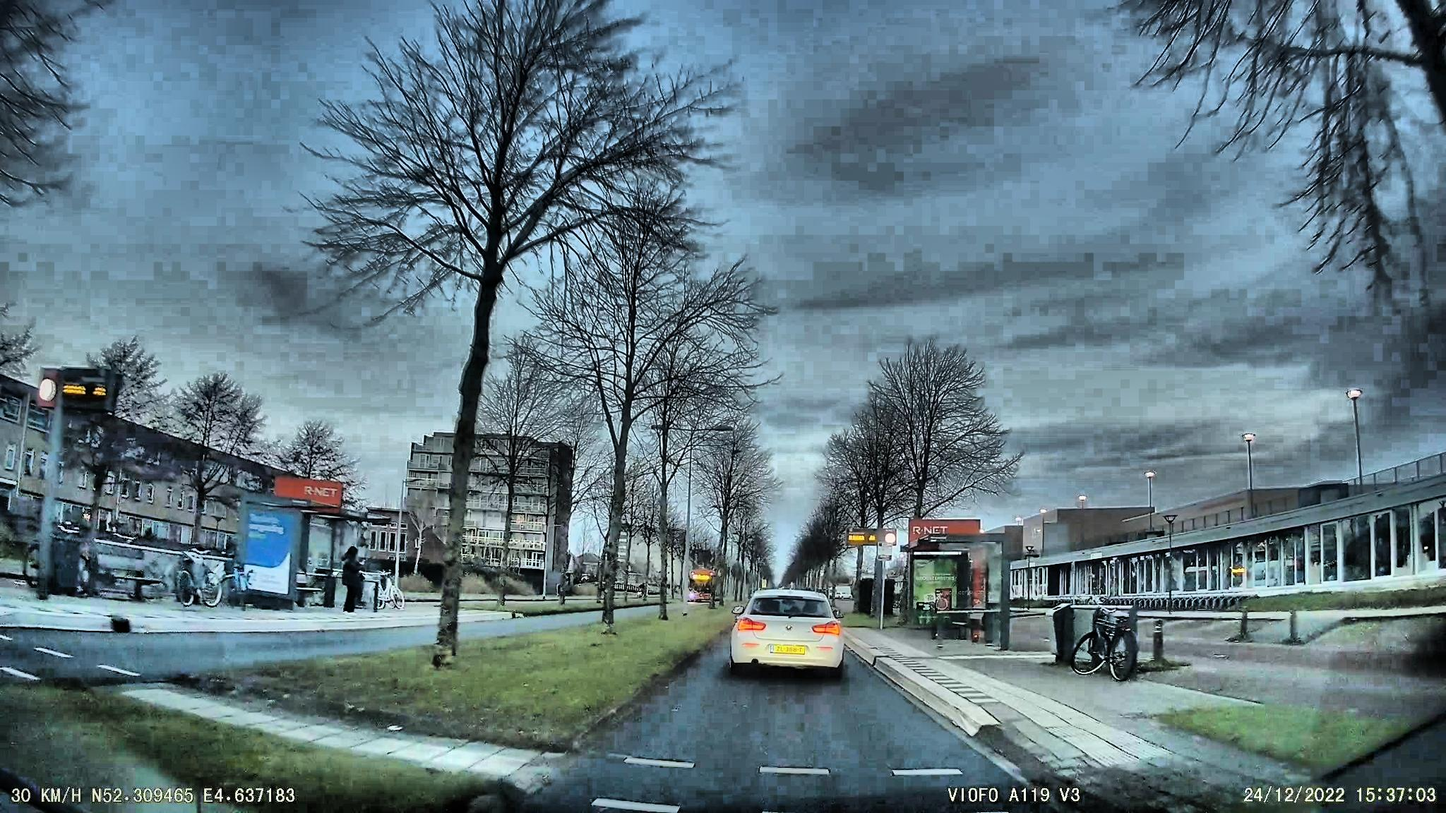Roads: (498, 637, 1086, 813)
